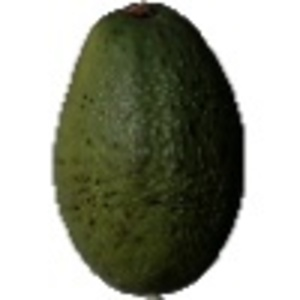abacate: (49, 1, 250, 294)
